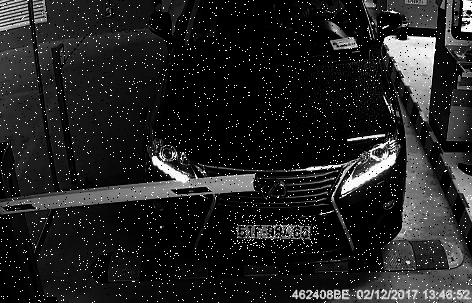License-plate: (233, 217, 319, 253)
